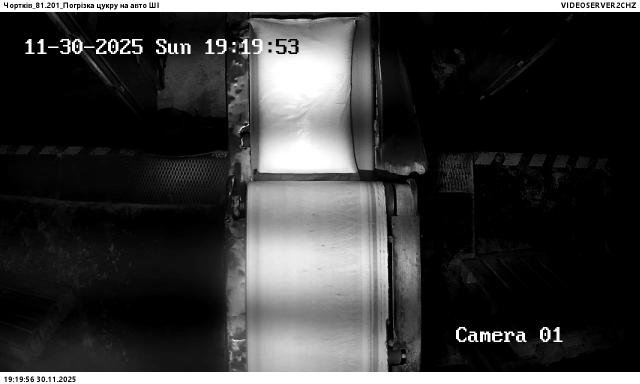bag: (250, 16, 365, 175)
